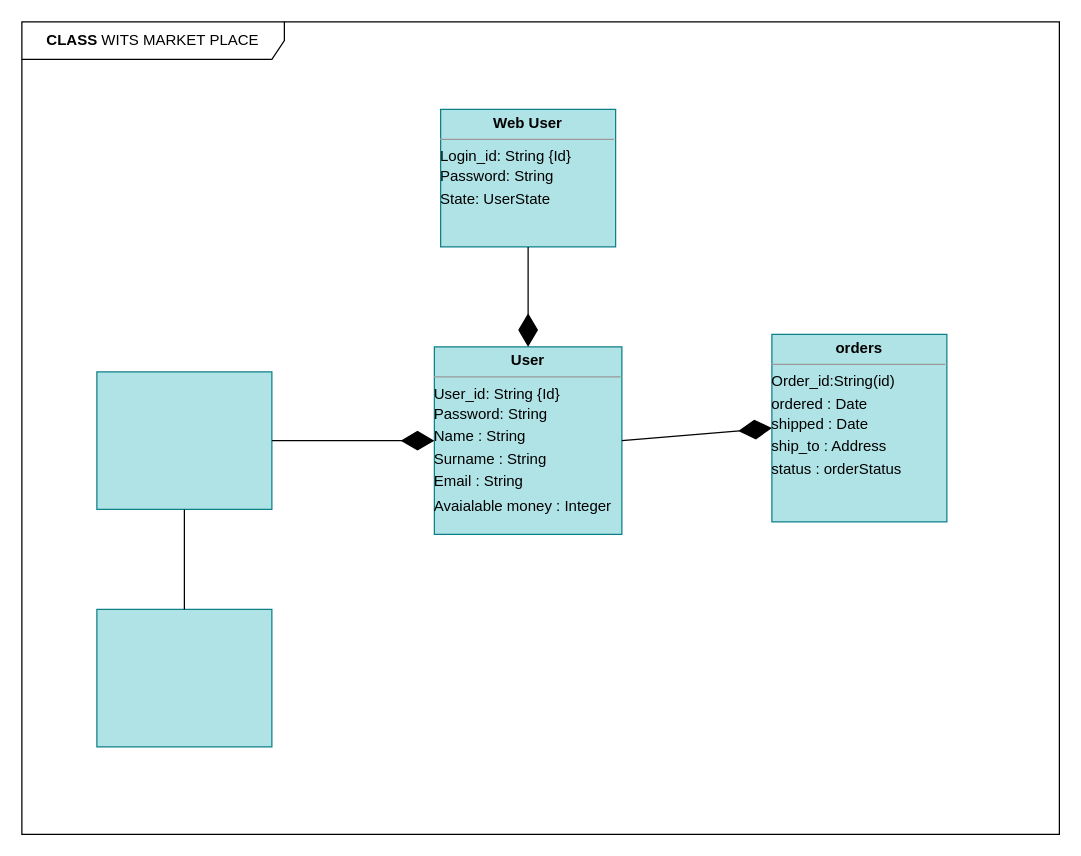
Some shapes in this 1081 by 856 pixel diagram are drawn without their labels. Each missing label, with the box of its shape:
Cart Product_id {Id} Quantity: Integer Total Price : Integer: (96, 371, 272, 509)
Product Product_id: String {Id} Product name : String Price : Integer: (96, 608, 272, 747)
